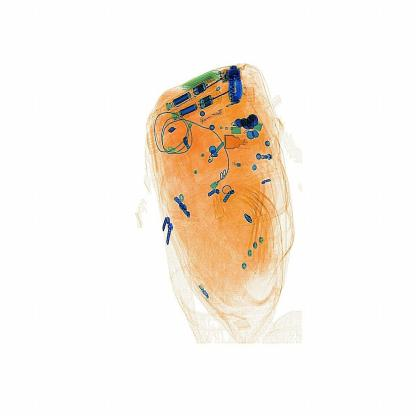scissors: (225, 63, 245, 108)
